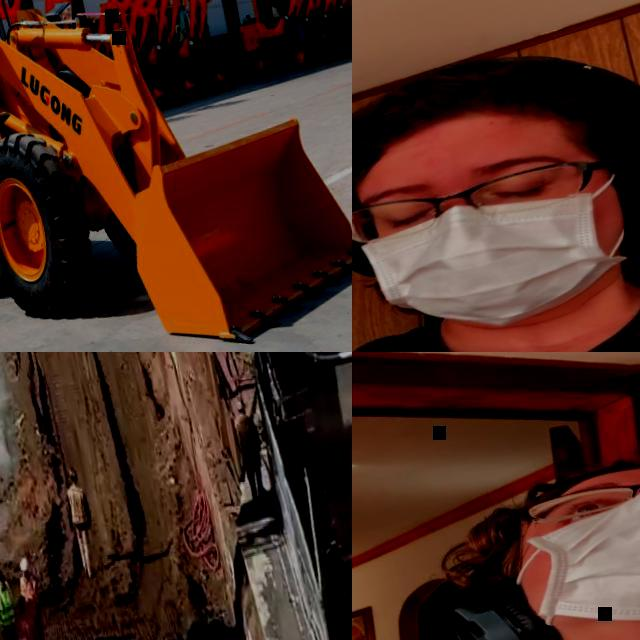helmet: (352, 34, 634, 178), (17, 556, 30, 572), (66, 468, 78, 482), (234, 400, 247, 411), (0, 568, 5, 581)
machinery: (0, 0, 352, 352), (88, 0, 181, 115), (116, 0, 215, 107), (148, 0, 239, 102), (229, 0, 342, 78), (274, 0, 352, 64), (80, 0, 148, 61), (299, 0, 352, 58), (330, 0, 352, 52)
mask: (352, 173, 640, 342), (490, 465, 640, 640)
no_helmet: (469, 439, 640, 511)
no_vest: (352, 250, 640, 352)
person: (352, 0, 640, 352), (352, 399, 640, 640), (60, 464, 101, 581), (230, 398, 271, 502), (14, 555, 52, 640), (4, 593, 57, 640), (0, 566, 30, 640)
vest: (66, 486, 88, 525), (14, 611, 40, 640), (0, 585, 18, 626), (18, 576, 38, 604)
